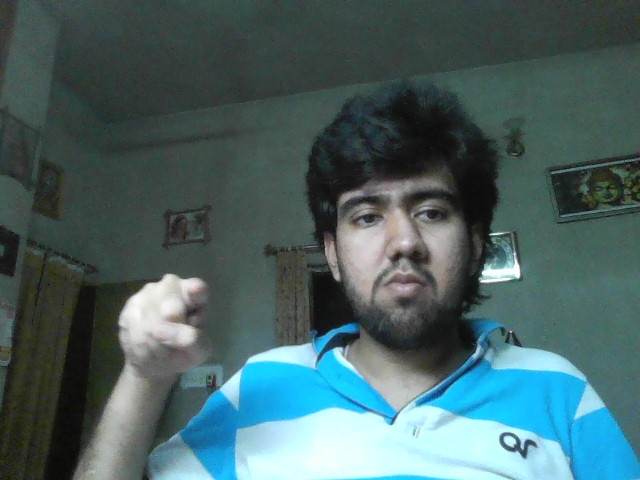You: (121, 273, 209, 368)
